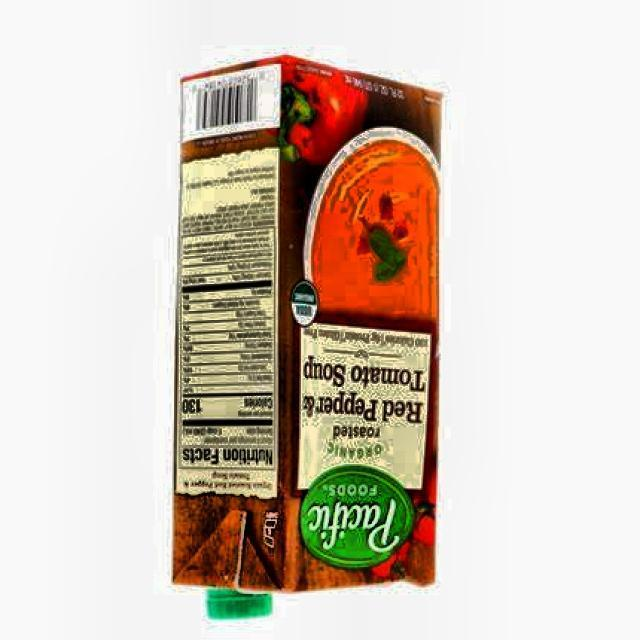cardboard: (172, 55, 444, 597)
